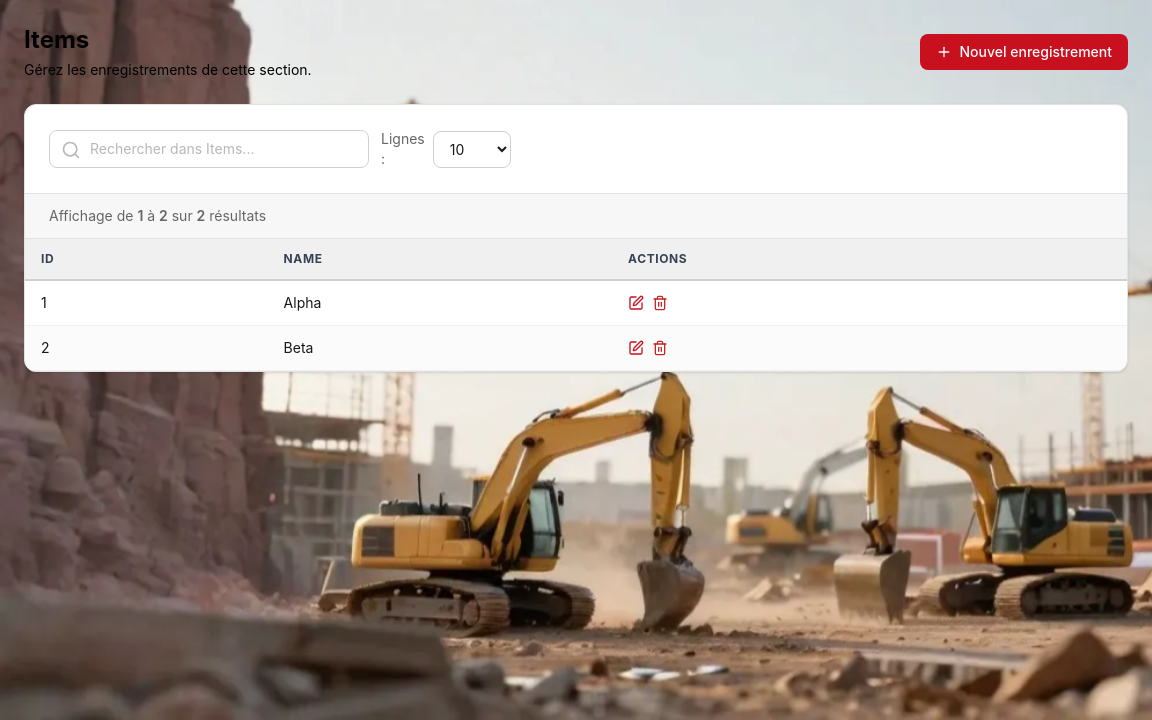
Test: CrudPage.tsx › opens the create dialog when clicking 'Nouvel enregistrement'
Check: the text "Alpha" is shown, box 268,280 -> 612,326
Click the button "Nouvel enregistrement" at point(1024, 52), box 920,34 -> 1128,70
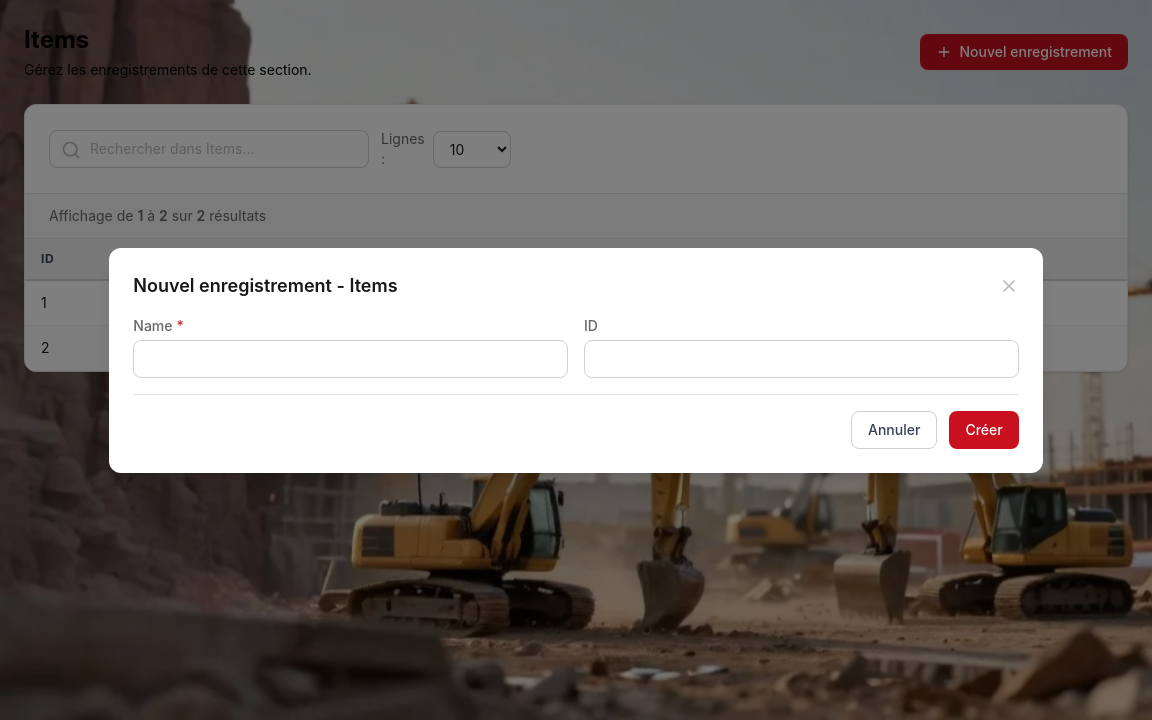
Check: the heading "Nouvel enregistrement - Items" is shown, box 133,272 -> 398,300
Check: the button "Créer" is shown, box 949,410 -> 1019,448
